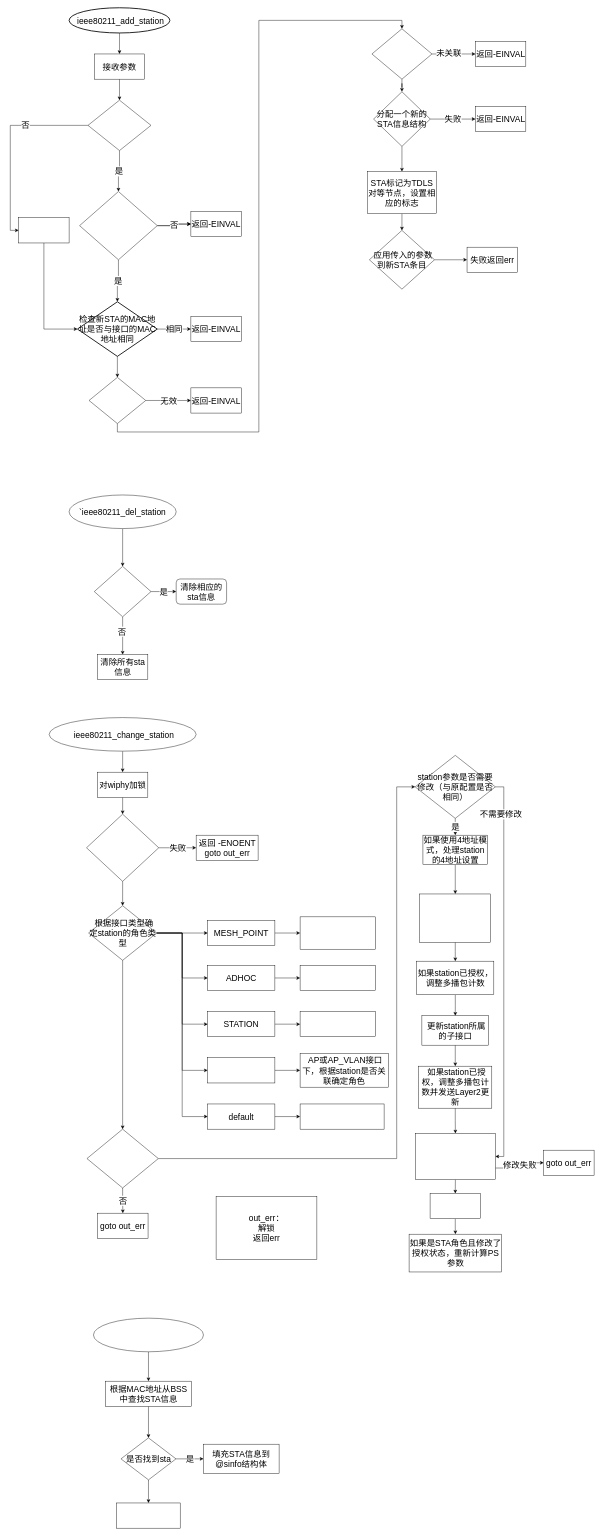
Image size: 601x1536. Some labels were removed from this diagram. The shapes that lost their labels are listed below. From the top down, each one's centre as x and y in pixels, then its label:
At (401,53): "station是否关联".
At (119,125): "如果指定了vlan".
At (43,230): "接收dev的信息".
At (118,225): "接收params信息，检查接口类型为ap或ap_vlan".
At (117,400): "验证MAC地址的有效性".
At (122,591): "是否提供了MAC地址".
At (122,847): "根据MAC地址获取station信息".
At (338,932): "MESH接口下，根据是否是用户态MPM确定角色".
At (455,918): "如果是AP_VLAN接口且有当前关联的station，清除快速接收设置".
At (338,978): "ADHOC接口下，station角色是IBSS".
At (338,1024): "STA接口下，处理TDLS状态".
At (241,1070): "AP或AP_VLAN".
At (342,1116): "返回-EOPNOTSUPP goto out_err".
At (122,1158): "检查station参数是否可更改".
At (455,1156): "应用station参数更改 sta_apply_parameters".
At (455,1206): "解锁".
At (148,1335): "ieee80211_get_station".
At (148,1515): "返回 -ENOENT".
